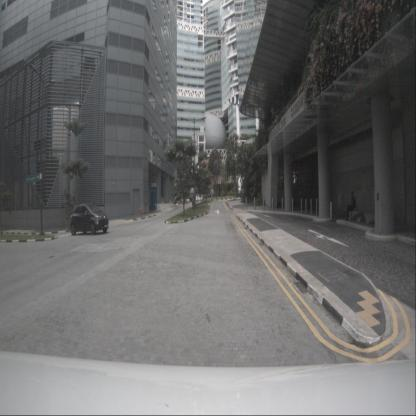human-pedestrian-adult: (346, 192, 357, 222)
vehicle-car: (70, 202, 108, 236)
